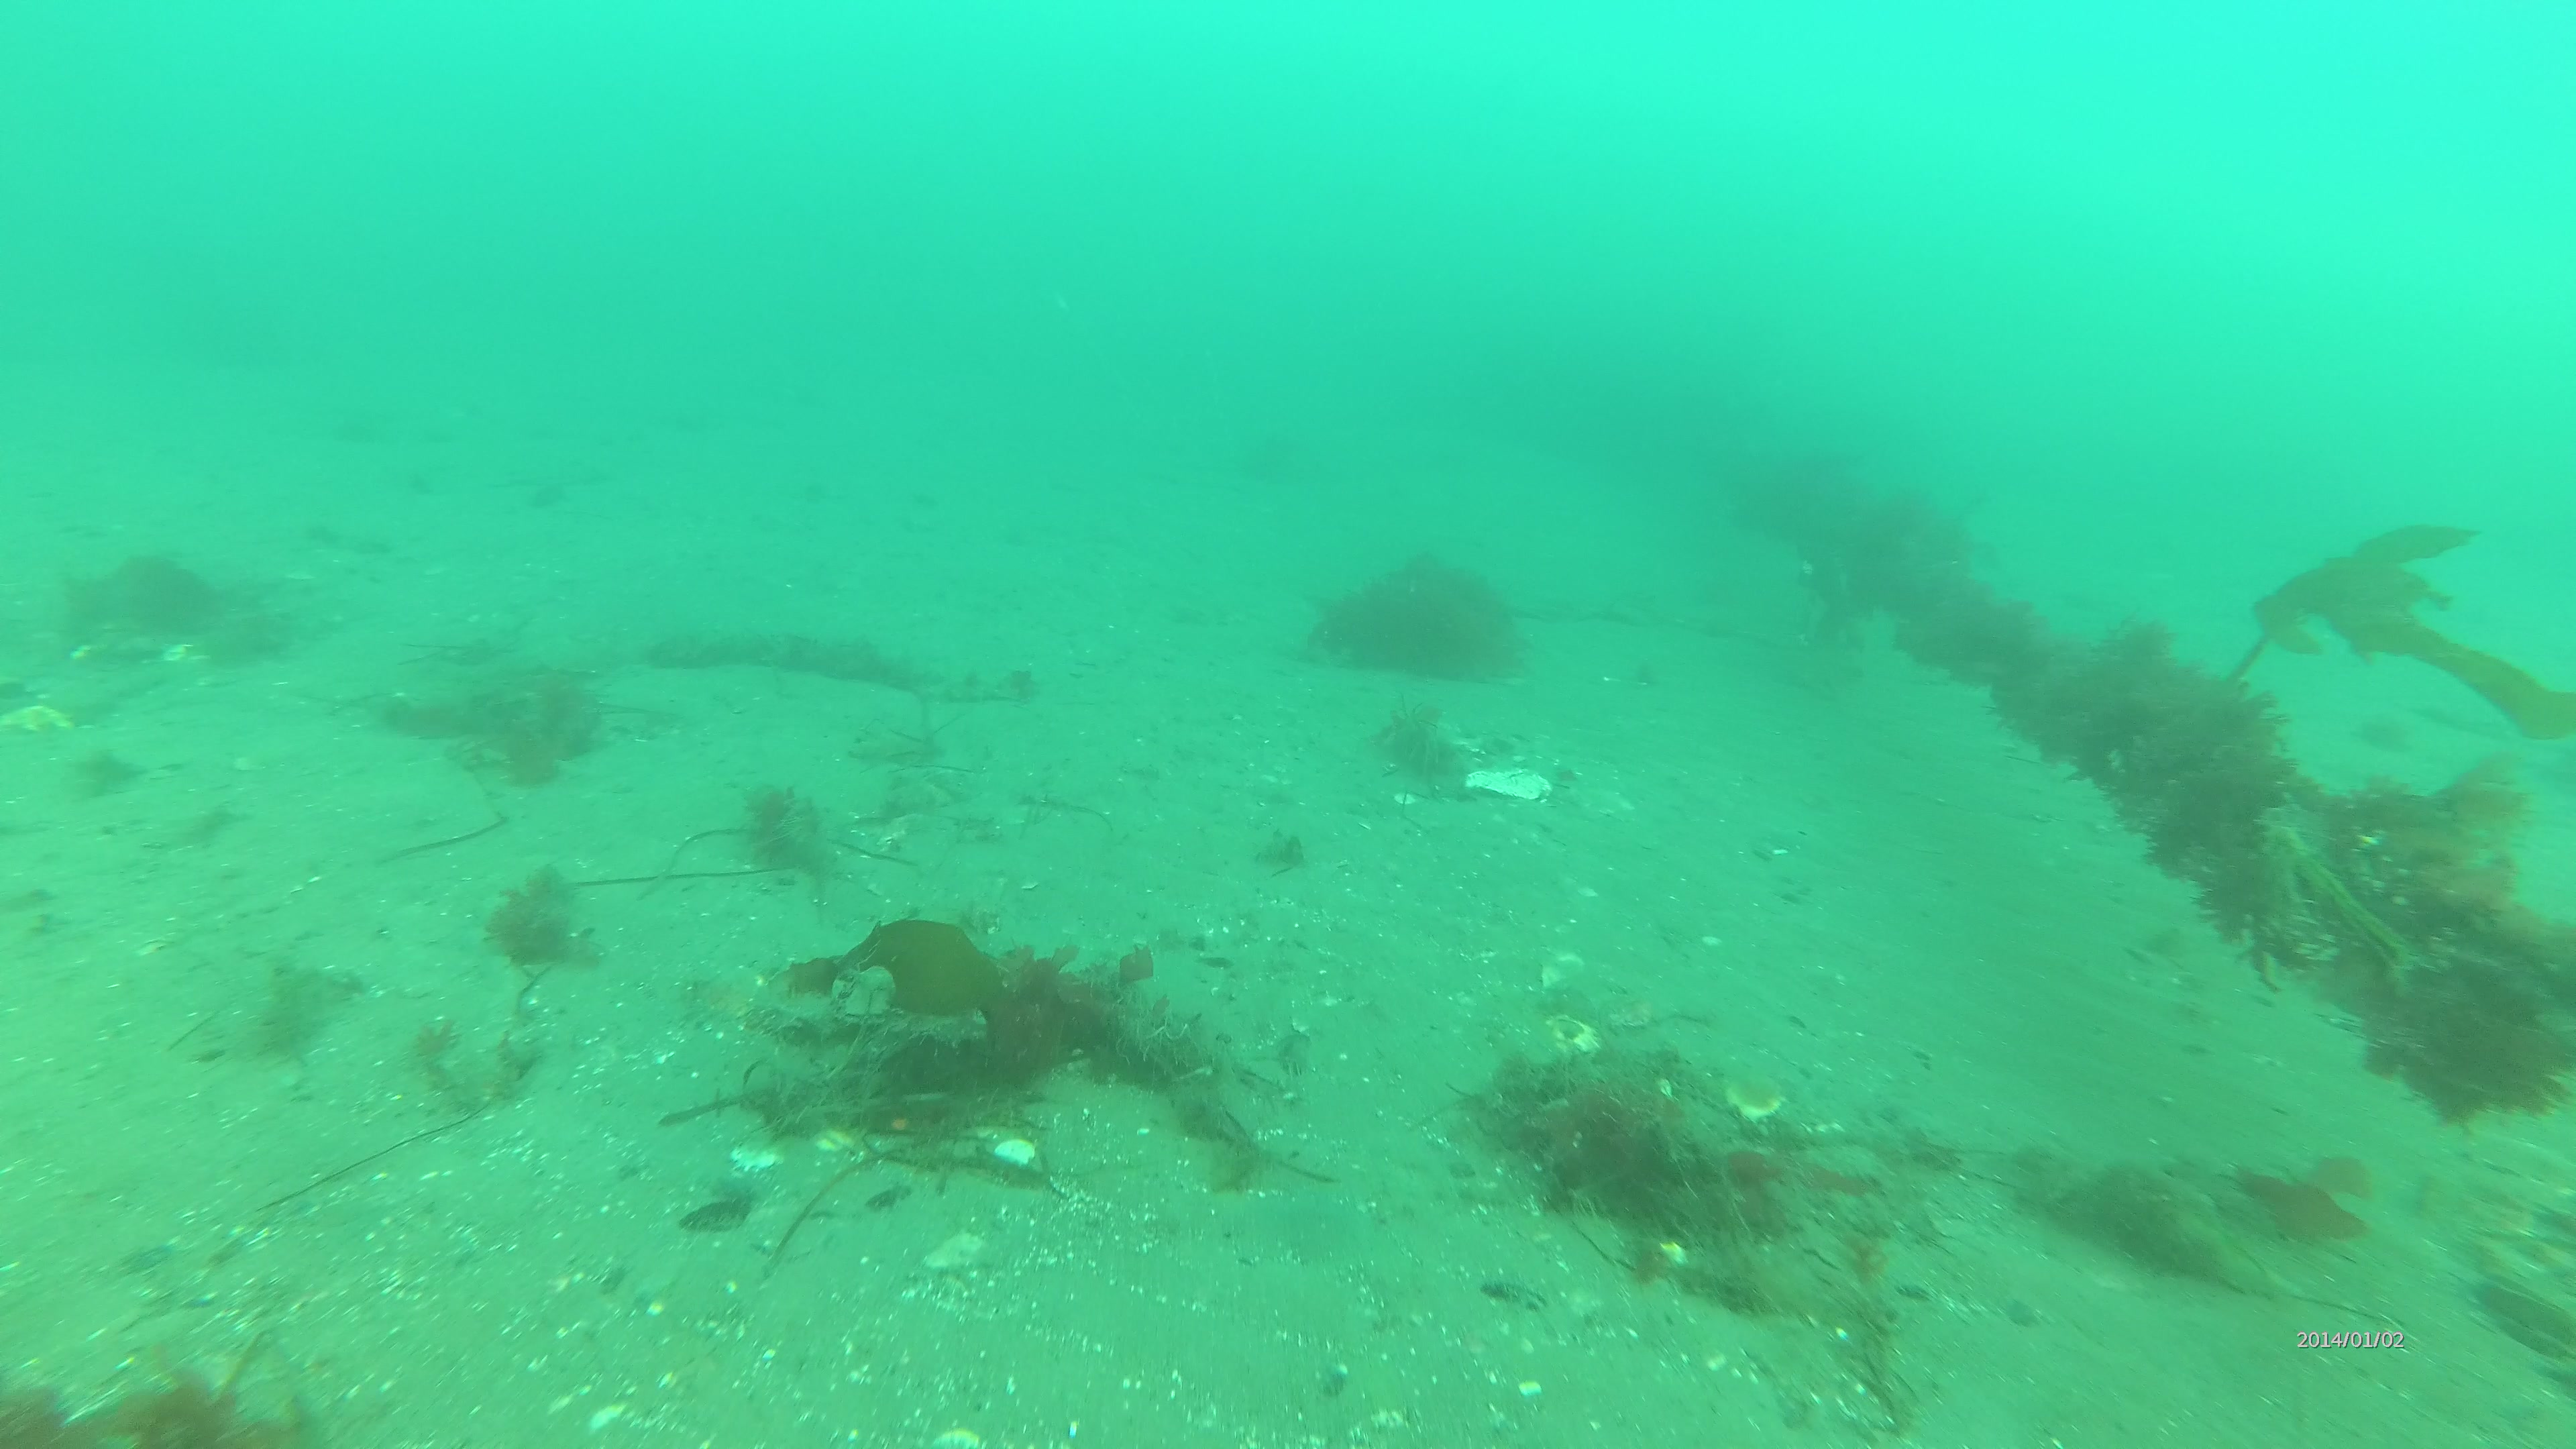scallop: (692, 957, 764, 1028), (725, 1138, 780, 1180), (994, 1138, 1047, 1168), (1392, 789, 1417, 809)
